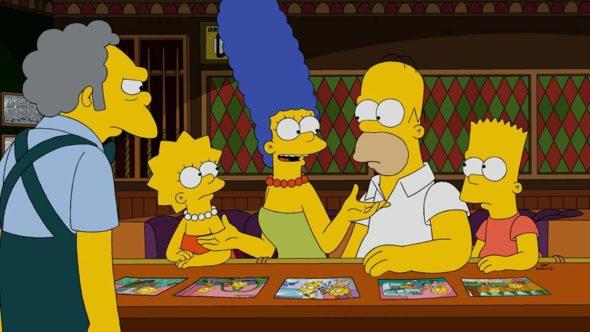Bart: (456, 119, 556, 267)
Homer: (345, 55, 478, 275)
Lisa: (132, 131, 249, 278)
Marge: (205, 1, 348, 275)
